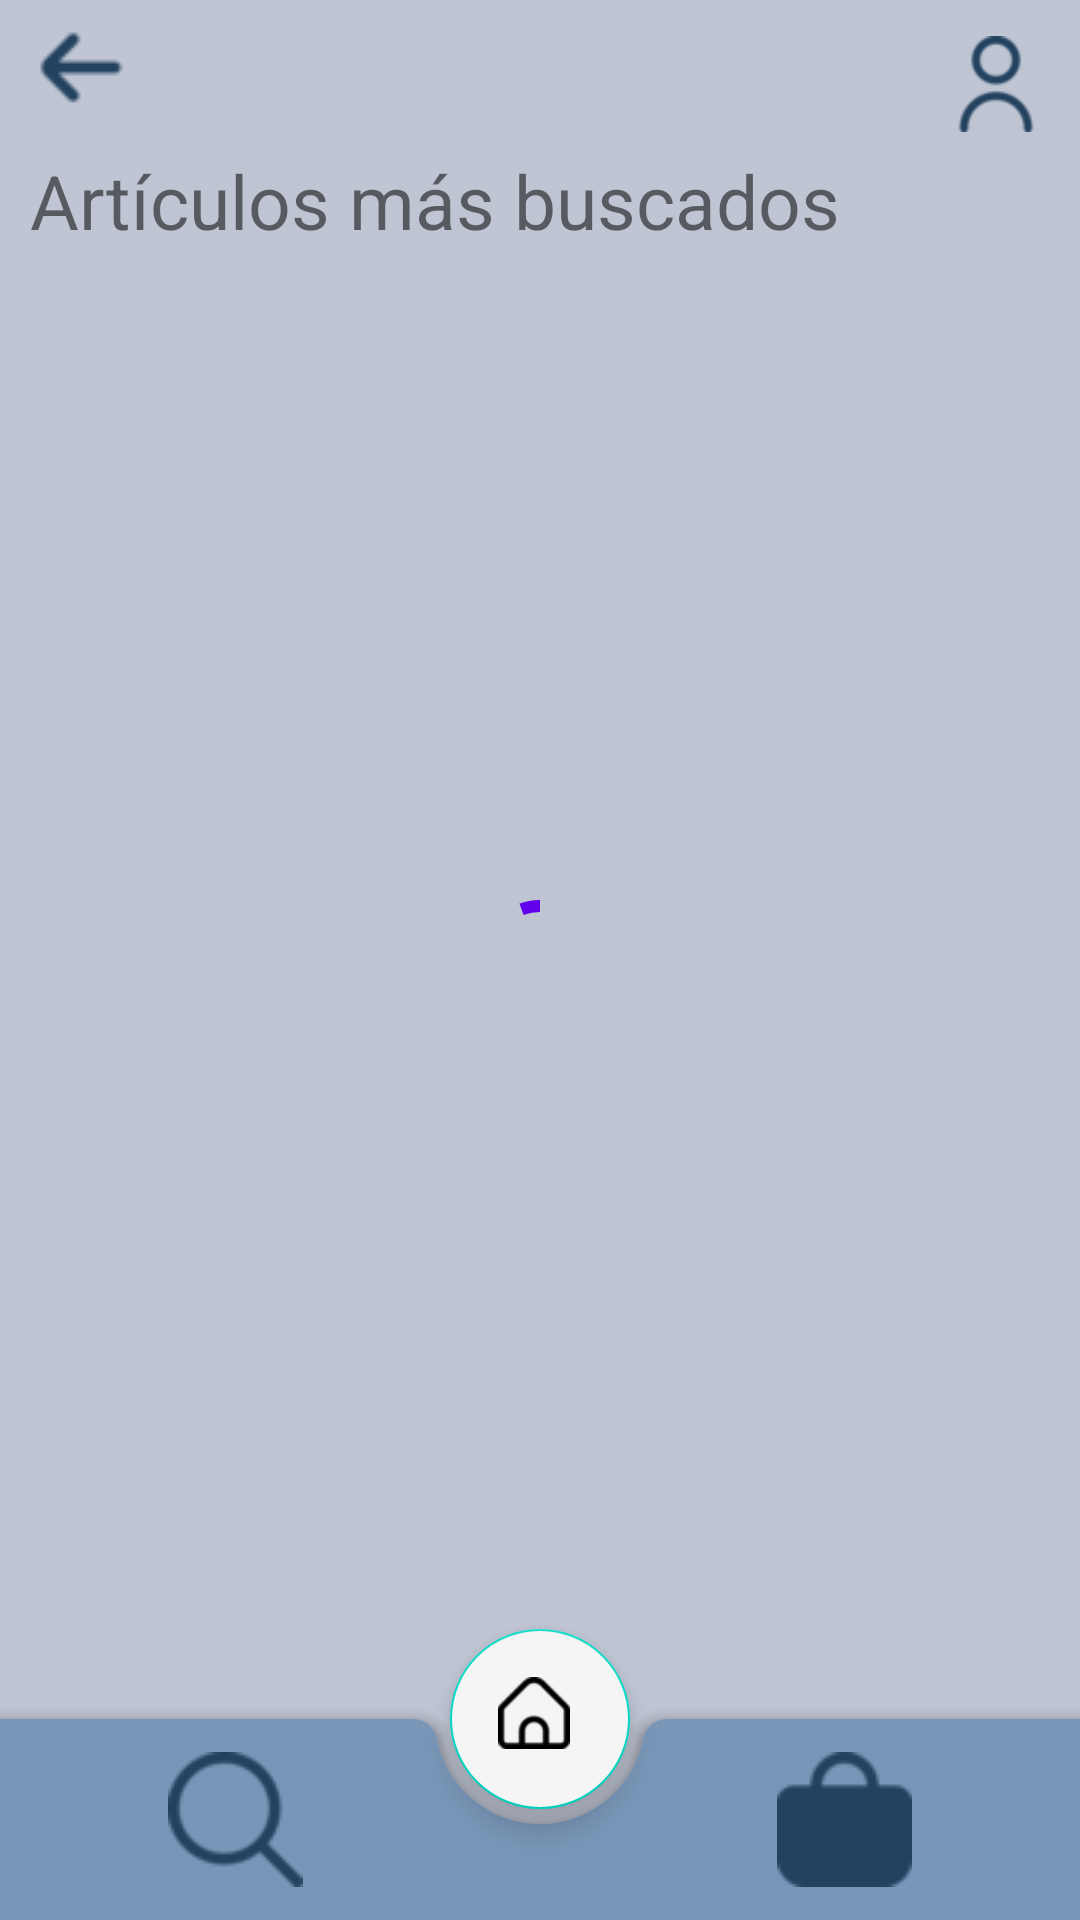

Where to tap for icons on this 1080x1920 app screen, as [x,y]:
back: [81,67]
home: [540,1719]
store: [844,1819]
